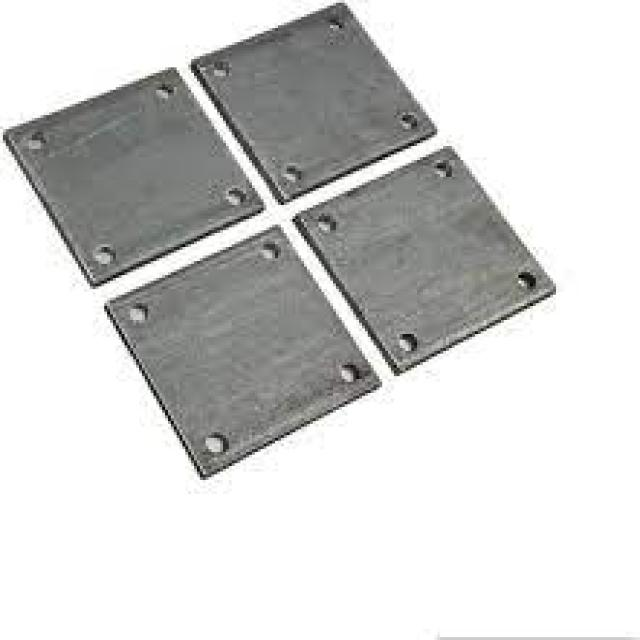holes: (202, 429, 239, 458), (221, 181, 246, 210), (280, 159, 311, 181), (126, 298, 151, 322), (512, 269, 539, 289), (153, 79, 181, 98), (396, 330, 418, 354), (260, 238, 281, 263), (431, 157, 453, 179), (313, 211, 337, 231), (340, 363, 360, 383), (397, 111, 419, 128), (210, 60, 230, 78), (97, 244, 118, 261), (26, 131, 44, 149), (327, 16, 343, 27)
